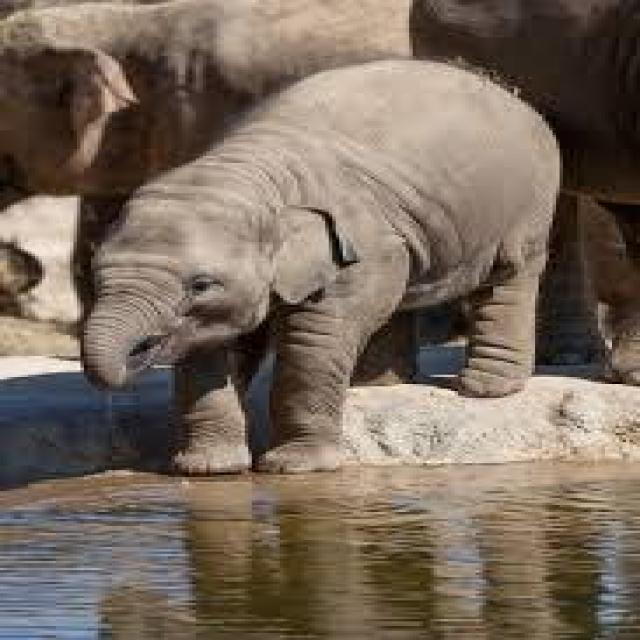Elephant: (60, 47, 556, 474)
